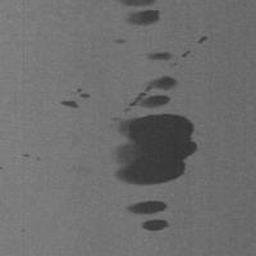Oil spot: (106, 74, 200, 187), (124, 200, 172, 233), (113, 0, 161, 28), (145, 50, 178, 68), (60, 99, 81, 110), (76, 87, 92, 99), (197, 35, 209, 46), (179, 49, 191, 59), (111, 38, 127, 44)
